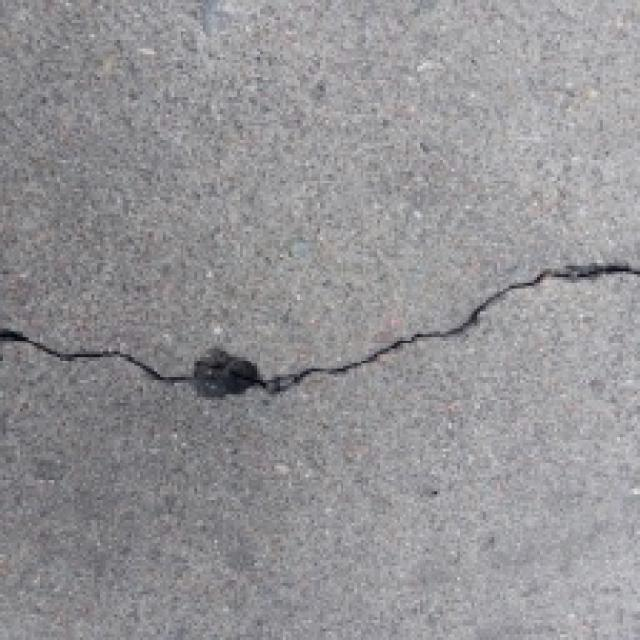crack: (0, 226, 640, 442)
